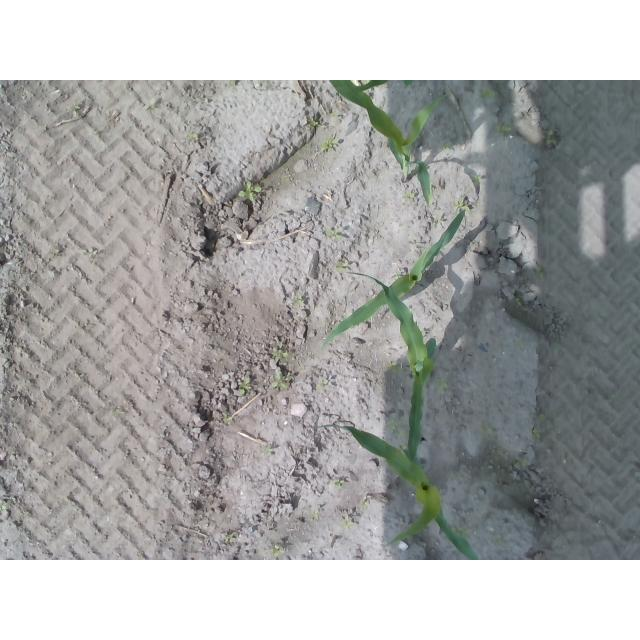Maize: (343, 340, 482, 561), (320, 208, 466, 349), (327, 80, 449, 205), (346, 270, 436, 414)
Weeds: (237, 178, 263, 202), (488, 446, 511, 463), (271, 372, 290, 390), (388, 416, 400, 440), (237, 377, 252, 395), (386, 361, 402, 375), (479, 87, 497, 99), (78, 246, 98, 256), (453, 527, 471, 538), (328, 225, 341, 240), (546, 130, 557, 147), (322, 137, 335, 151), (270, 348, 286, 359), (273, 544, 286, 557), (335, 259, 347, 273), (498, 125, 513, 136), (511, 296, 523, 309), (225, 532, 239, 543), (439, 377, 449, 392), (533, 411, 548, 421), (532, 425, 541, 441), (453, 201, 467, 211), (185, 132, 200, 141), (307, 117, 319, 127), (292, 295, 304, 305), (334, 478, 346, 488), (403, 190, 413, 199), (264, 448, 273, 457), (0, 503, 6, 513), (473, 174, 480, 182)
